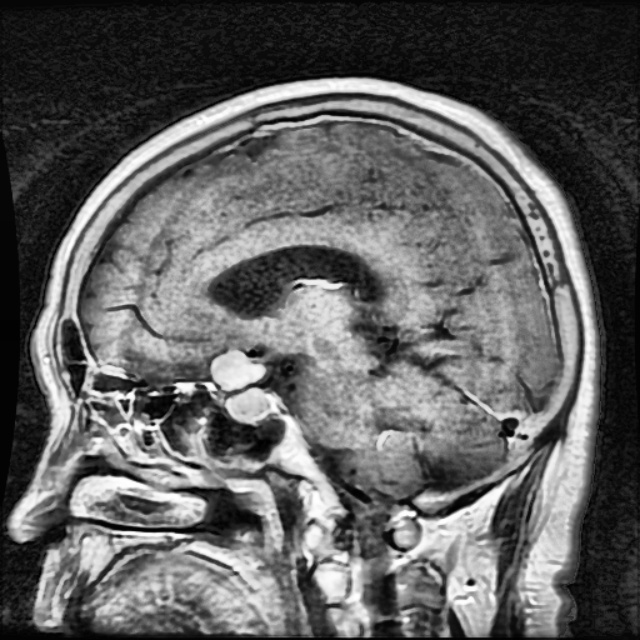Pituitary: (212, 350, 270, 417)
